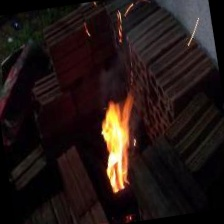fire: (87, 87, 155, 206)
